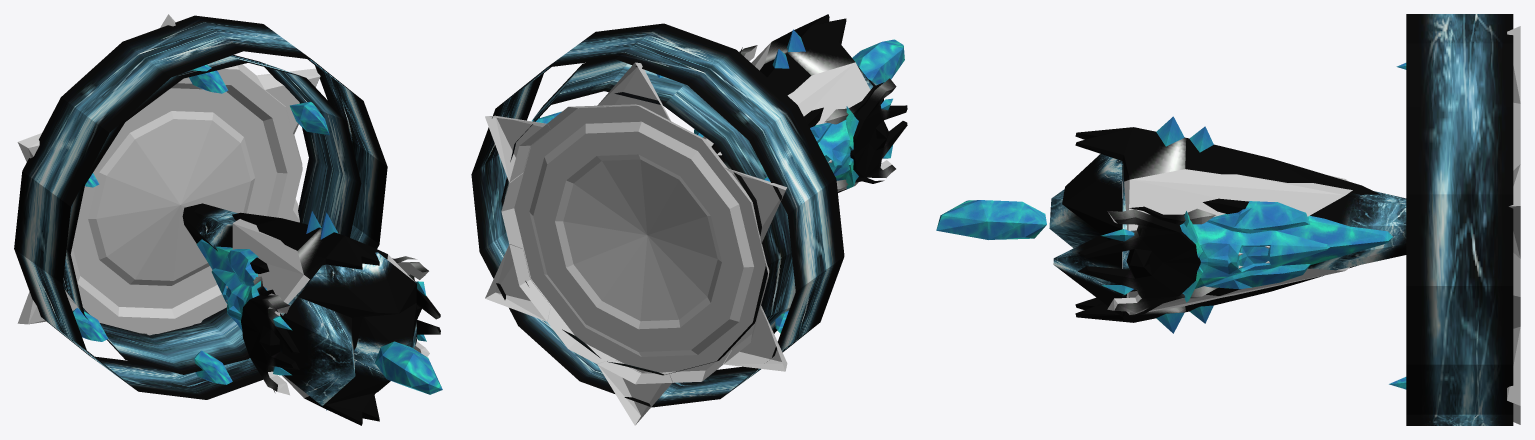
File: zhanchang_fuben_221_tiji_02.obj
3 renders of one model, left to right at view 1: azimuth 30°, elevation 25°; view 2: azimuth 150°, elevation 25°; view 3: azimuth 270°, elevation 25°, orthographic. The views are drawn at different scales.
Visible parts, largest first — view 1: Object02, Cylinder01, zhanchang_fuben_221_tiji_01, Cylinder02, 12, 424, 3, 11, Object03, Object05, Object04, Object01; view 2: Object02, Cylinder01, zhanchang_fuben_221_tiji_01, Cylinder02, 3; view 3: Cylinder01, zhanchang_fuben_221_tiji_01, 12, 11, 3, Object02, 424.
Part boxes in pixels (box(x1,y1,x2,y2)): Object02: box(17, 14, 320, 335); Cylinder01: box(14, 15, 387, 399); zhanchang_fuben_221_tiji_01: box(196, 211, 440, 425); Cylinder02: box(63, 55, 361, 374); 12: box(298, 252, 416, 405); 424: box(282, 297, 362, 405); 3: box(375, 341, 442, 394); 11: box(182, 203, 376, 352); Object03: box(290, 102, 329, 135); Object05: box(194, 350, 232, 384); Object04: box(72, 307, 108, 341); Object01: box(189, 64, 228, 93); Object02: box(485, 62, 787, 425); Cylinder01: box(471, 23, 844, 407); zhanchang_fuben_221_tiji_01: box(694, 14, 907, 192); Cylinder02: box(501, 59, 795, 375); 3: box(852, 39, 904, 84); Cylinder01: box(1406, 14, 1513, 425); zhanchang_fuben_221_tiji_01: box(1075, 116, 1392, 333); 12: box(1053, 154, 1122, 316); 11: box(1122, 163, 1406, 316); 3: box(936, 200, 1046, 239); Object02: box(1507, 26, 1520, 424); 424: box(1049, 189, 1101, 248).
Bounding box in the file's own units: 303 × 324 × 430.
